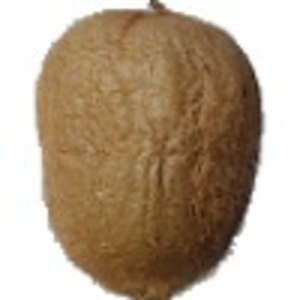kiwi: (33, 1, 263, 300)
